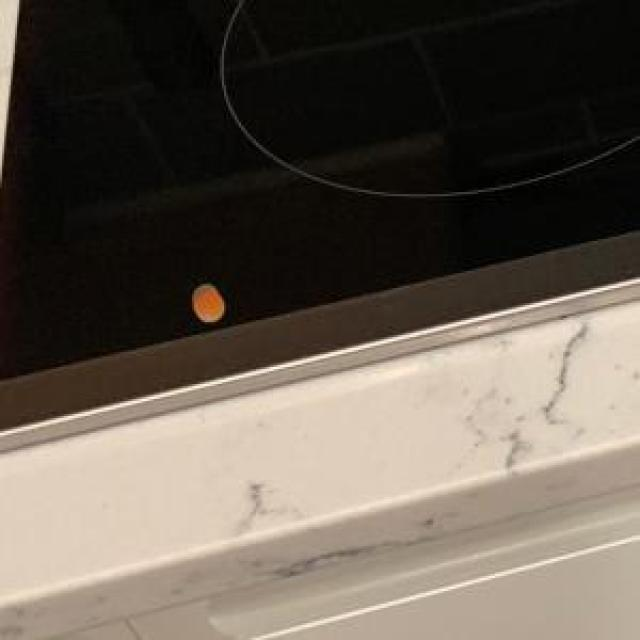Bactidol: (180, 277, 236, 331)
